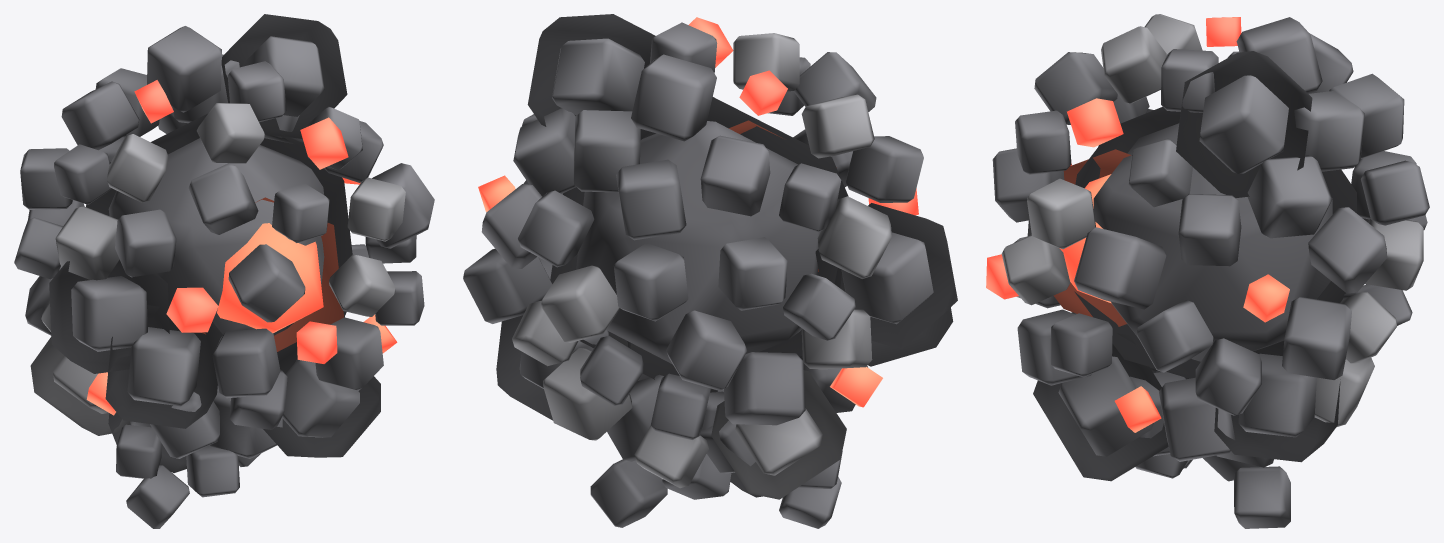
File: nano_swarm.glb
3 renders of one model, left to right at view 1: azimuth 30°, elevation 25°; view 2: azimuth 150°, elevation 25°; view 3: azimuth 270°, elevation 25°, orthographic. The views are drawn at different scales.
Visible parts, largest first — view 1: M_LegB_swarm, M_LegA_swarm, M_Body, M_LegB_swarm_Outline, M_LegA_swarm_Outline, M_Body_Outline; view 2: M_LegB_swarm, M_LegA_swarm, M_Body, M_LegB_swarm_Outline, M_LegA_swarm_Outline, M_Body_Outline; view 3: M_LegA_swarm, M_LegB_swarm, M_Body, M_LegA_swarm_Outline, M_Body_Outline.
Part boxes in pixels (x1,y1,x2,y2): M_LegB_swarm: [14, 26, 305, 528]; M_LegA_swarm: [158, 36, 434, 466]; M_Body: [108, 138, 324, 335]; M_LegB_swarm_Outline: [30, 259, 222, 472]; M_LegA_swarm_Outline: [221, 14, 380, 457]; M_Body_Outline: [86, 113, 352, 351]; M_LegB_swarm: [613, 33, 933, 528]; M_LegA_swarm: [463, 17, 810, 527]; M_Body: [576, 121, 821, 364]; M_LegB_swarm_Outline: [710, 203, 957, 499]; M_LegA_swarm_Outline: [496, 14, 655, 420]; M_Body_Outline: [550, 97, 848, 389]; M_LegA_swarm: [986, 49, 1429, 528]; M_LegB_swarm: [992, 14, 1427, 481]; M_Body: [1059, 123, 1332, 361]; M_LegA_swarm_Outline: [1033, 51, 1340, 481]; M_Body_Outline: [1053, 106, 1356, 378].
Bounding box in the file's own units: 0.7807 × 0.8983 × 0.7282.
